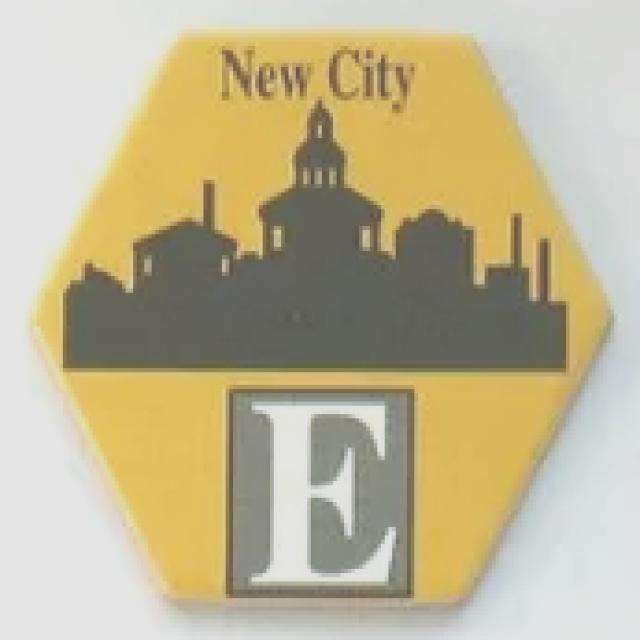20_0: (31, 34, 616, 610)
